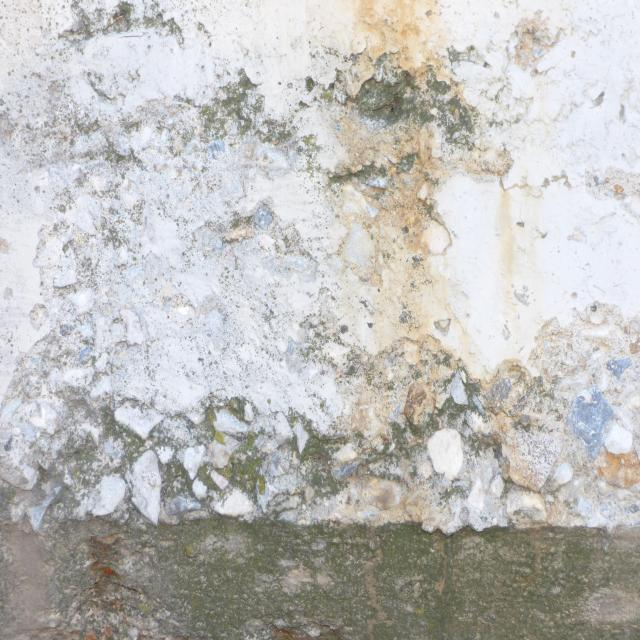concrete spalling: (341, 67, 416, 127), (516, 15, 556, 72)
